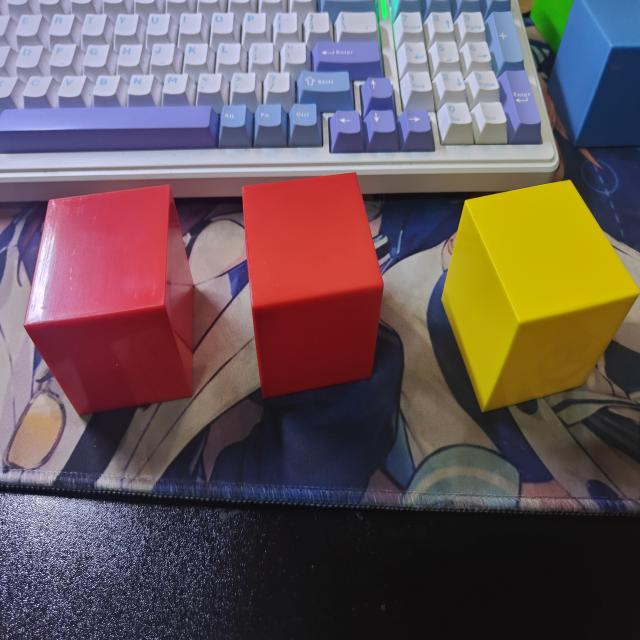red: (21, 186, 197, 420), (241, 174, 384, 403)
yellow: (440, 180, 640, 415)
